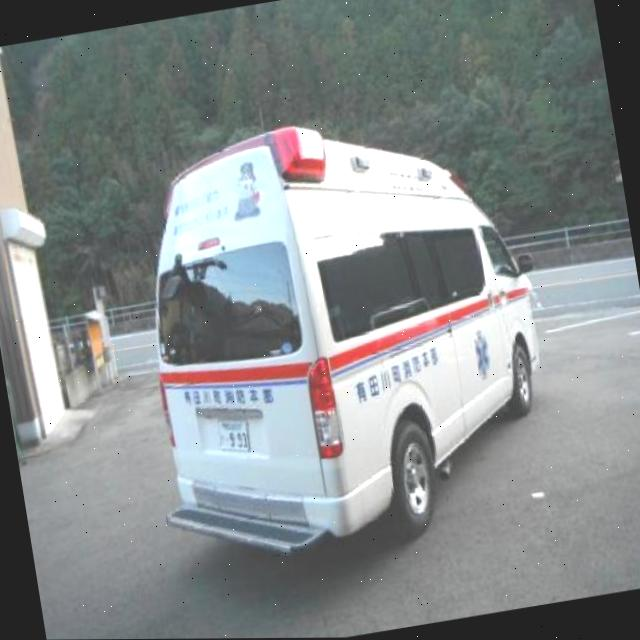emergency: (108, 87, 573, 579)
